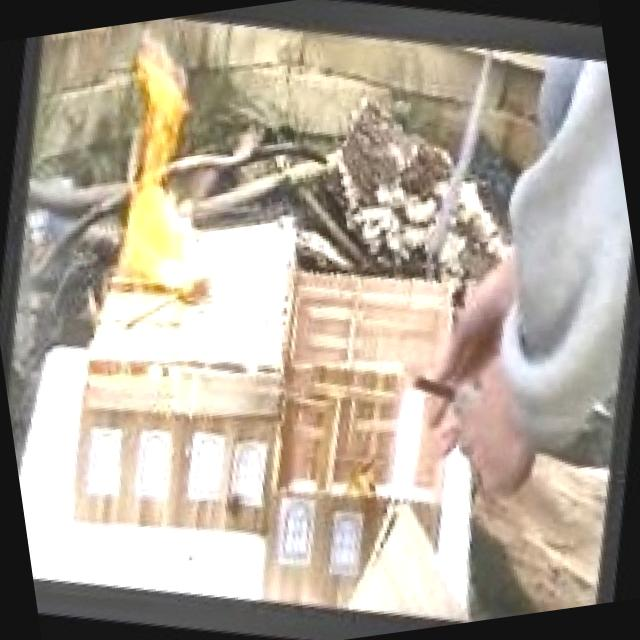fire: (78, 48, 249, 299)
